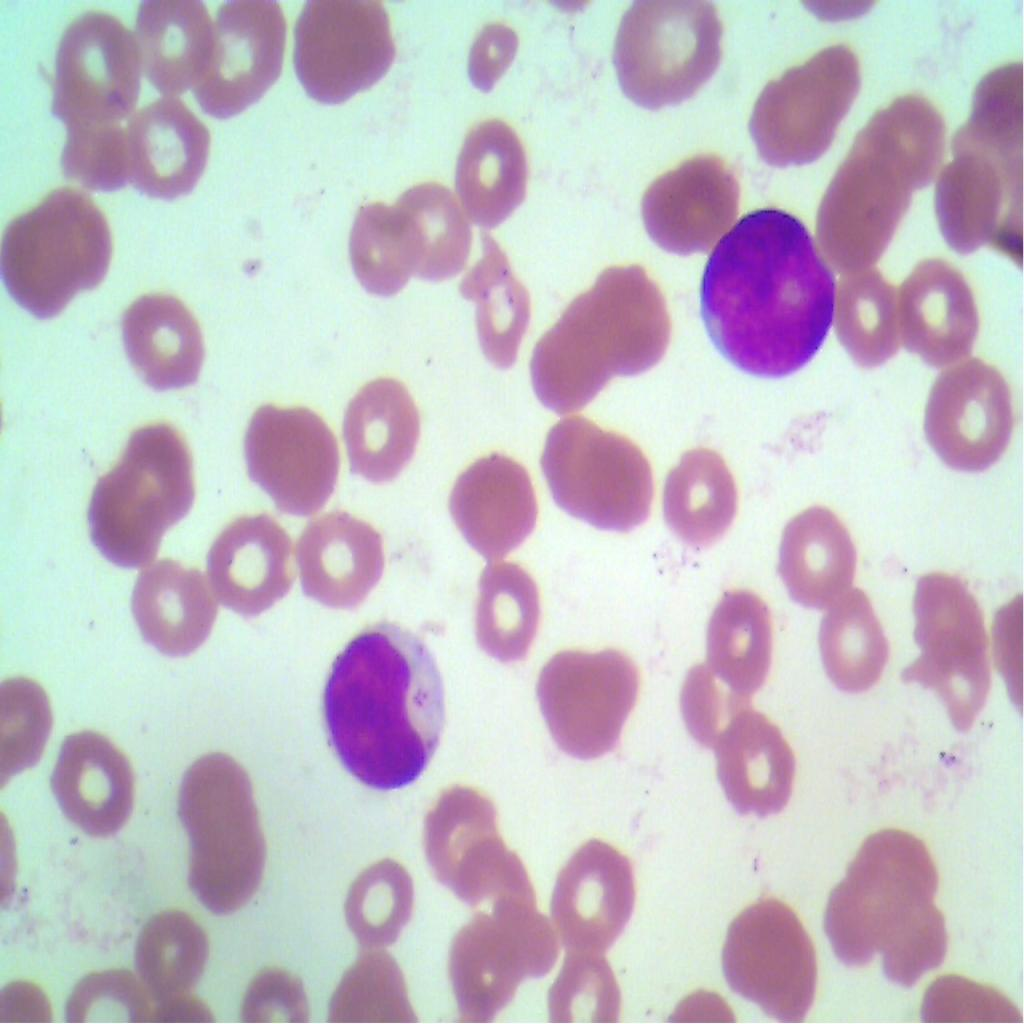Eritrosit: (523, 625, 636, 774), (238, 382, 346, 521), (38, 714, 146, 852), (438, 435, 546, 561), (190, 498, 304, 616), (918, 346, 1010, 488), (610, 0, 726, 112), (122, 88, 226, 210), (295, 0, 406, 112), (632, 144, 738, 260), (729, 881, 816, 1021), (196, 0, 288, 127), (475, 858, 566, 986), (334, 365, 422, 494), (578, 260, 668, 385), (796, 574, 890, 692), (415, 785, 504, 908), (888, 248, 982, 362), (118, 900, 218, 1007), (658, 441, 744, 562), (528, 285, 606, 415), (466, 234, 538, 374), (913, 641, 1008, 746), (122, 282, 206, 399), (550, 832, 633, 950), (295, 508, 391, 610), (186, 817, 276, 922), (906, 548, 988, 662), (774, 500, 858, 611), (819, 859, 911, 959), (470, 550, 550, 664), (578, 440, 658, 554), (714, 707, 796, 818), (135, 565, 222, 669), (50, 104, 144, 200), (822, 255, 899, 372), (3, 210, 81, 325), (35, 184, 118, 292), (458, 109, 535, 225), (316, 930, 411, 1023), (874, 885, 955, 992), (168, 752, 258, 847), (342, 191, 419, 302), (55, 18, 139, 119), (676, 651, 758, 754), (84, 474, 170, 570), (935, 144, 1006, 260), (394, 177, 472, 282), (526, 412, 613, 506), (811, 177, 899, 269), (118, 421, 198, 522), (134, 0, 216, 95), (850, 818, 938, 906), (851, 120, 942, 205), (704, 584, 775, 692), (448, 914, 516, 1023), (754, 67, 828, 164), (796, 38, 882, 118), (342, 851, 415, 944), (0, 672, 59, 784), (551, 942, 624, 1023), (459, 28, 531, 108)
Limfoblast: (699, 189, 838, 381)
Limfosit: (313, 612, 456, 792)
